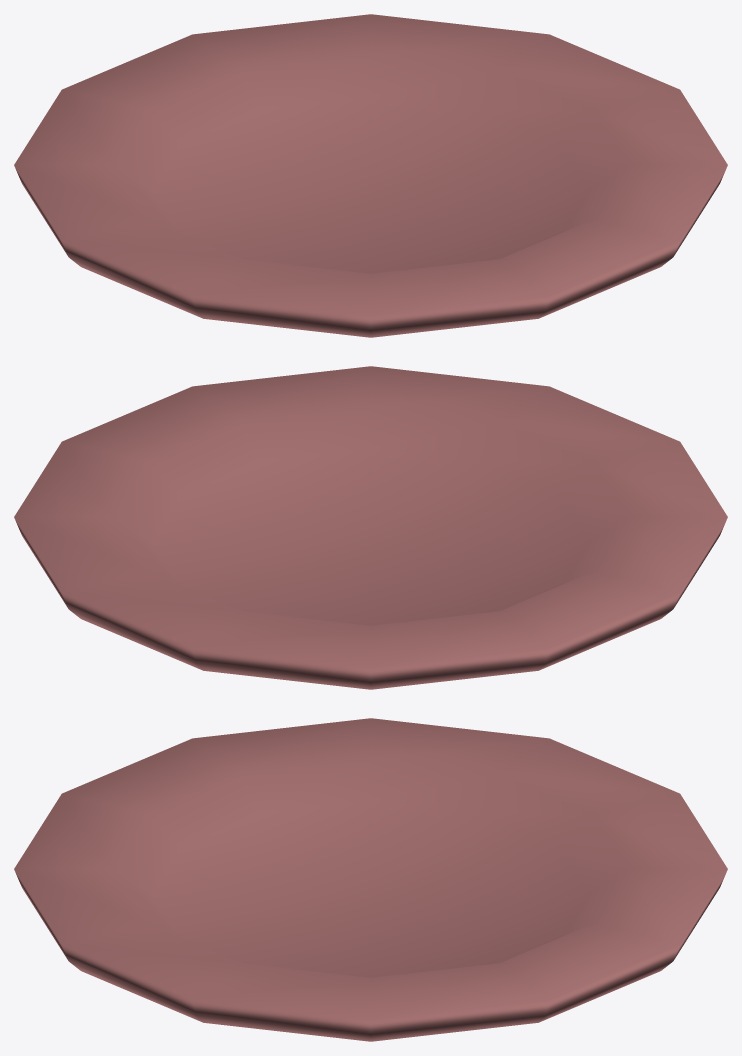
Rendered from Mod_Assiette_LO_V1_JT.fbx.
3 views of the same model, one above another, from view 1: azimuth 30°, elevation 25°; view 2: azimuth 150°, elevation 25°; view 3: azimuth 270°, elevation 25° (orthographic).
Visible parts, largest first — view 1: Assiette_LO; view 2: Assiette_LO; view 3: Assiette_LO.
Boxes of the visible parts, box(x1,y1,x2,y2) form: Assiette_LO: box(14, 14, 727, 337); Assiette_LO: box(14, 366, 727, 689); Assiette_LO: box(14, 718, 727, 1041).
Size of the model in its own units: 52 by 2.5 by 52.
